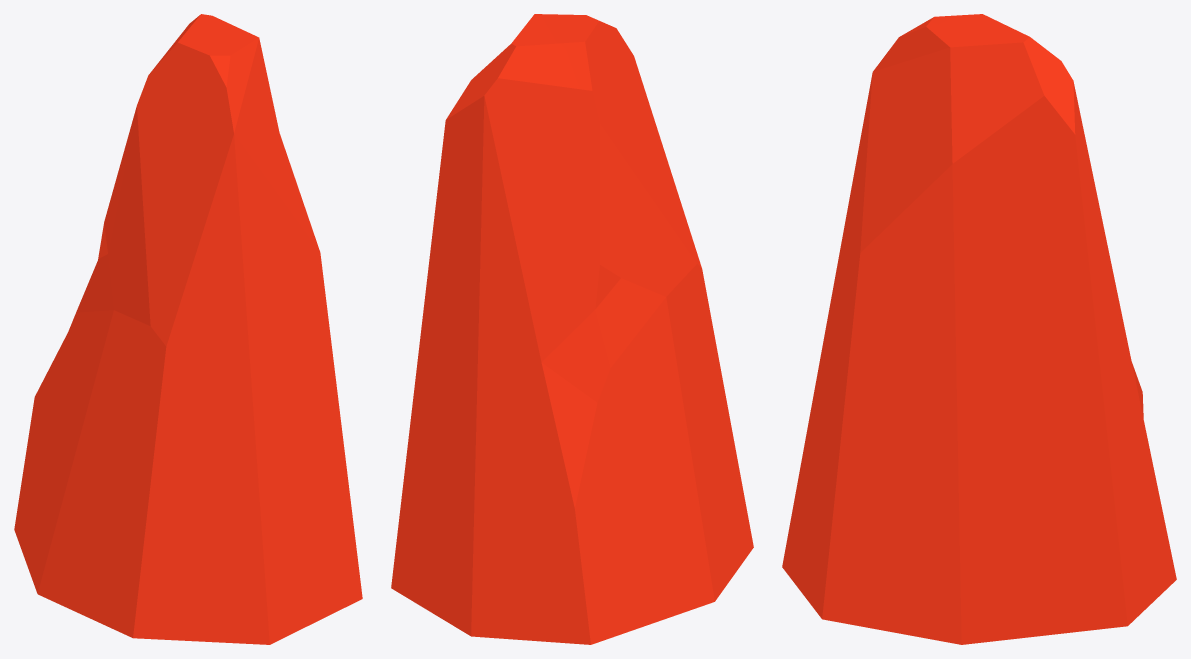
File: mining_PP_Crystal_Single_07_Red.gltf
3 views of the same model, side by side, from view 1: azimuth 30°, elevation 25°; view 2: azimuth 150°, elevation 25°; view 3: azimuth 270°, elevation 25° (orthographic). The views are drawn at different scales.
Visible parts, largest first — view 1: PP_Crystal_Single_07_Red; view 2: PP_Crystal_Single_07_Red; view 3: PP_Crystal_Single_07_Red.
Boxes of the visible parts, <box> form: PP_Crystal_Single_07_Red: <box>14,14,362,644</box>; PP_Crystal_Single_07_Red: <box>391,14,753,644</box>; PP_Crystal_Single_07_Red: <box>782,14,1176,644</box>.
Bounding box in the file's own units: 0.2672 × 0.5057 × 0.3206.
Materials: 1 (1 with a texture image).
